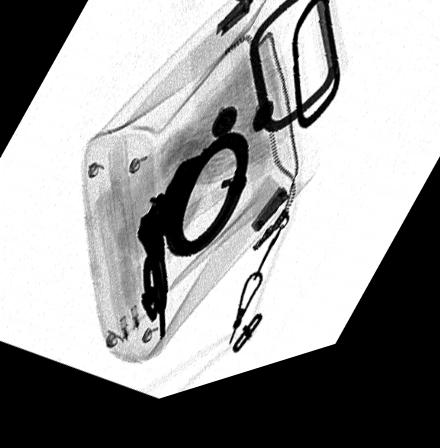HandCuffs: (136, 145, 249, 351)
